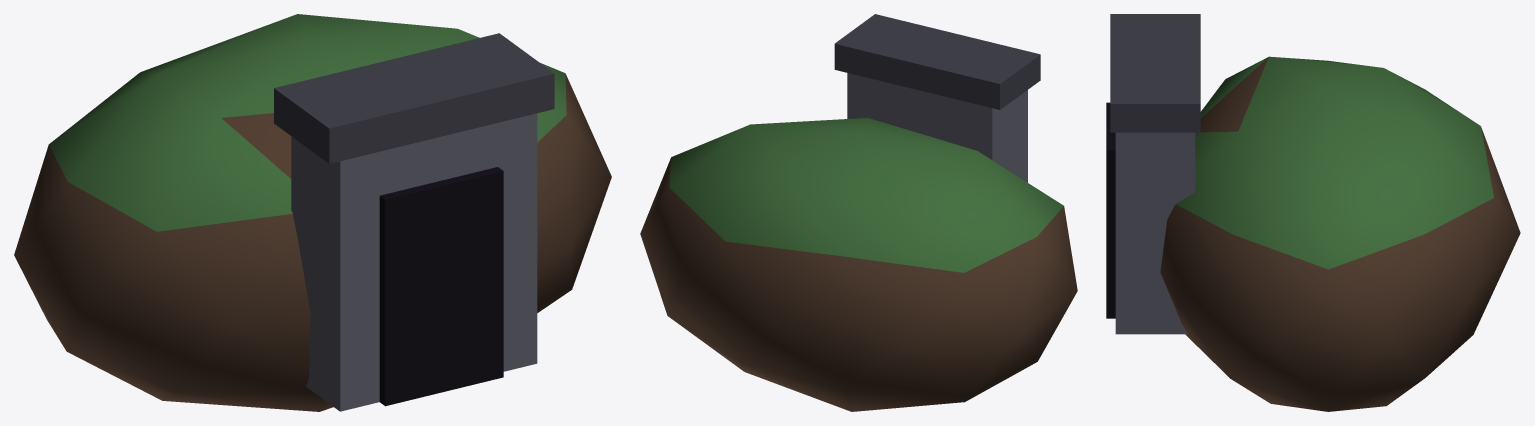
Rendered from barrow.glb.
The picture shows the model from 3 angles, left to right: view 1: azimuth 30°, elevation 25°; view 2: azimuth 150°, elevation 25°; view 3: azimuth 270°, elevation 25°; orthographic projection. The views are drawn at different scales.
Visible parts, largest first — view 1: barrow; view 2: barrow; view 3: barrow.
Boxes of the visible parts, left/top/right/bottom form: barrow: left=14, top=14, right=611, bottom=411; barrow: left=640, top=14, right=1077, bottom=411; barrow: left=1106, top=14, right=1520, bottom=411.
Bounding box in the file's own units: 1.88 × 1.34 × 1.56.
